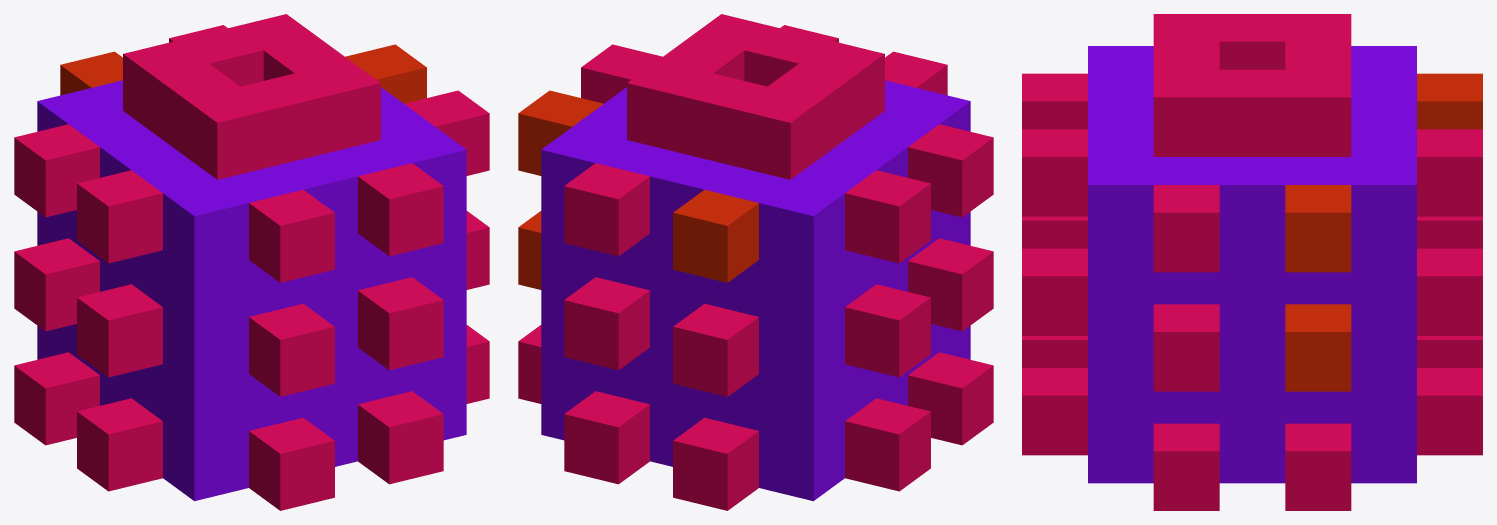
Rendered from obstacle.dae.
The picture shows the model from 3 angles, left to right: view 1: azimuth 30°, elevation 25°; view 2: azimuth 150°, elevation 25°; view 3: azimuth 270°, elevation 25°; orthographic projection. The views are drawn at different scales.
Parts seen in each view (by area): view 1: obstacle; view 2: obstacle; view 3: obstacle.
Part boxes in pixels (x1,y1,x2,y2): obstacle: (14, 14, 489, 510); obstacle: (518, 14, 993, 510); obstacle: (1022, 14, 1482, 510).
Size of the model in its own units: 7 by 6 by 7.
1 material, 1 textured.
